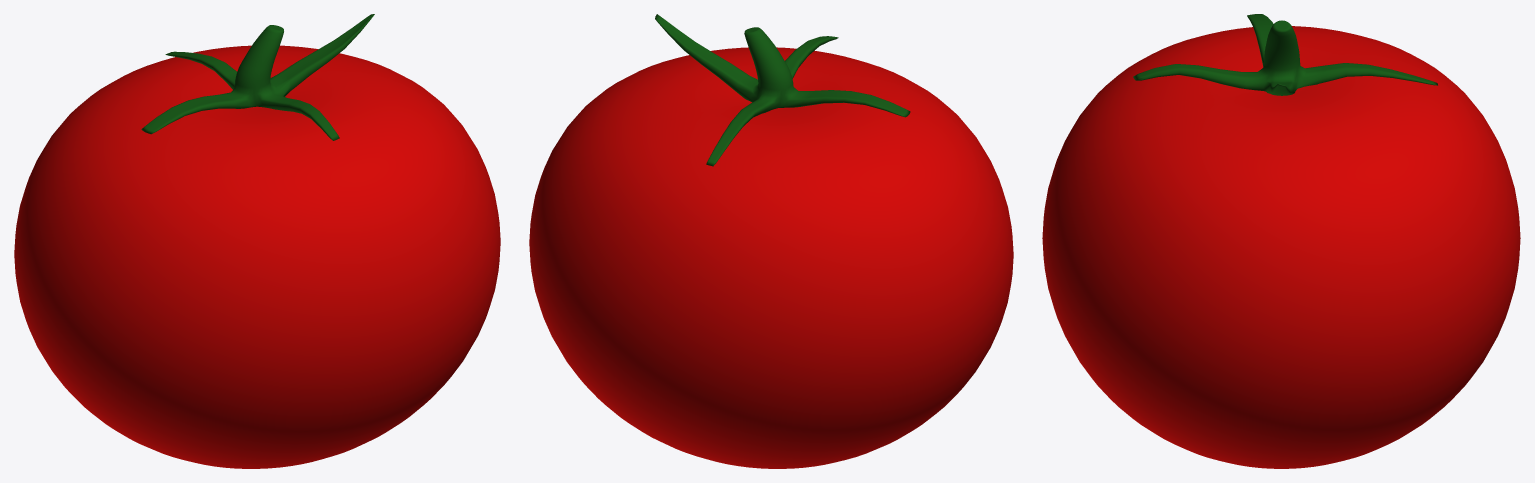
The model's file is Tomato.FBX.
3 views of the same model, side by side, from view 1: azimuth 30°, elevation 25°; view 2: azimuth 150°, elevation 25°; view 3: azimuth 270°, elevation 25° (orthographic). The views are drawn at different scales.
Visible parts, largest first — view 1: Sphere001; view 2: Sphere001; view 3: Sphere001.
Boxes of the visible parts, x1,y1,x2,y2 form: Sphere001: (14,14,500,468); Sphere001: (529,14,1013,468); Sphere001: (1042,14,1520,468).
Bounding box in the file's own units: 92 × 85.32 × 86.2.
